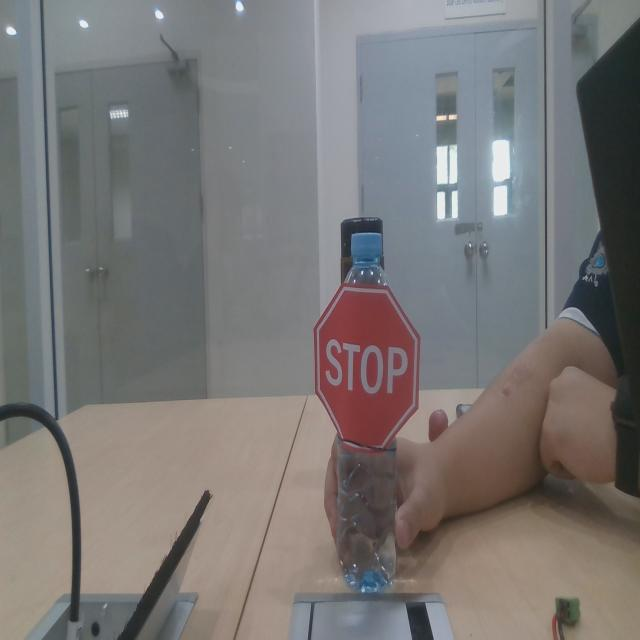Stop: (310, 282, 421, 454)
